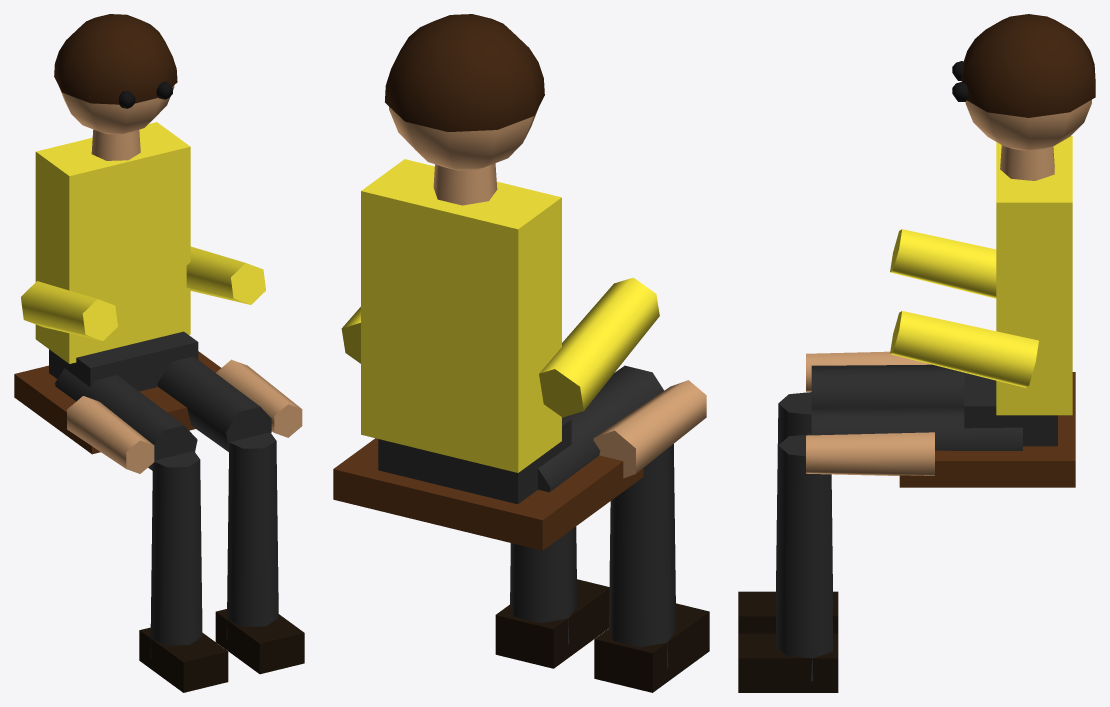
The model's file is crowd-seated-00.glb.
The picture shows the model from 3 angles, left to right: view 1: azimuth 30°, elevation 25°; view 2: azimuth 150°, elevation 25°; view 3: azimuth 270°, elevation 25°; orthographic projection. The views are drawn at different scales.
Visible parts, largest first — view 1: Torso, Left Shin, Right Shin, Hair Cap, Right Thigh, Left Thigh, Hips, Left Upper Arm, Left Shoe, Right Shoe, Left Lower Arm, Bench Seat (+4 smaller); view 2: Torso, Hair Cap, Bench Seat, Left Shin, Left Upper Arm, Hips, Left Shoe, Right Shoe, Left Lower Arm, Right Shin, Left Thigh, Head (+2 smaller); view 3: Torso, Right Shin, Hair Cap, Right Upper Arm, Bench Seat, Left Thigh, Right Thigh, Right Lower Arm, Left Upper Arm, Right Shoe, Head, Hips (+4 smaller).
Boxes of the visible parts, x1,y1,x2,y2 form: Torso: (35, 122, 190, 363); Left Shin: (150, 451, 202, 658); Right Shin: (226, 432, 278, 639); Hair Cap: (54, 14, 177, 104); Right Thigh: (157, 356, 271, 451); Left Thigh: (55, 368, 197, 470); Hips: (49, 331, 198, 391); Left Upper Arm: (21, 281, 117, 340); Left Shoe: (139, 627, 228, 692); Right Shoe: (215, 609, 304, 674); Left Lower Arm: (67, 396, 154, 473); Bench Seat: (14, 351, 220, 454); Torso: (361, 159, 561, 472); Hair Cap: (385, 14, 544, 131); Bench Seat: (333, 438, 643, 550); Left Shin: (609, 444, 676, 668); Left Upper Arm: (539, 277, 659, 417); Hips: (378, 417, 571, 504); Left Shoe: (594, 603, 709, 692); Right Shoe: (495, 579, 609, 668); Left Lower Arm: (593, 380, 706, 478); Right Shin: (510, 526, 577, 644); Left Thigh: (538, 365, 663, 492); Head: (389, 107, 538, 170); Torso: (996, 136, 1072, 415); Right Shin: (775, 434, 832, 681); Hair Cap: (962, 14, 1095, 117); Right Upper Arm: (890, 311, 1038, 387); Bench Seat: (899, 372, 1075, 487); Left Thigh: (811, 364, 964, 407); Right Thigh: (811, 406, 1022, 450); Right Lower Arm: (806, 432, 934, 475); Left Upper Arm: (890, 229, 996, 298); Right Shoe: (738, 633, 838, 692); Head: (965, 99, 1091, 151); Hips: (964, 372, 1057, 446).
Size of the model in its own units: 0.4097 by 1.2 by 0.6089.
